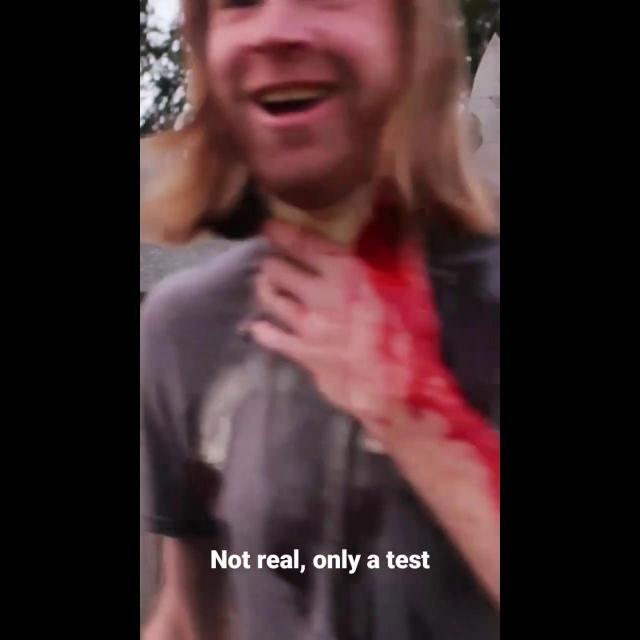blood: (365, 245, 500, 510)
